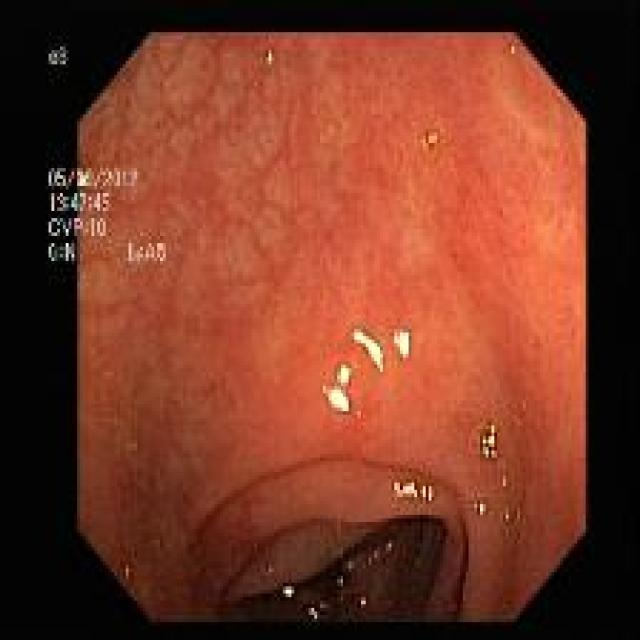ulcerative-colitis: (51, 33, 585, 623)
